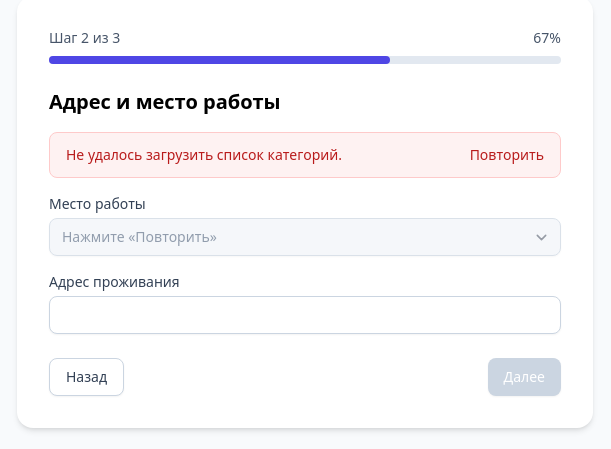
Test: wizard flow › categories error + retry › 500 на GET /category-list → ErrorBanner, Next disabled → retry → Next enabled
Check: the text "Не удалось загрузить список категорий." is shown, box [66, 145, 342, 165]
Check: the dropdown labelled "Место работы" is disabled, box [49, 218, 561, 256]
Клик «Повторить» - refetch успешен
Click the button "Повторить": x=507, y=155 [470, 145, 544, 165]
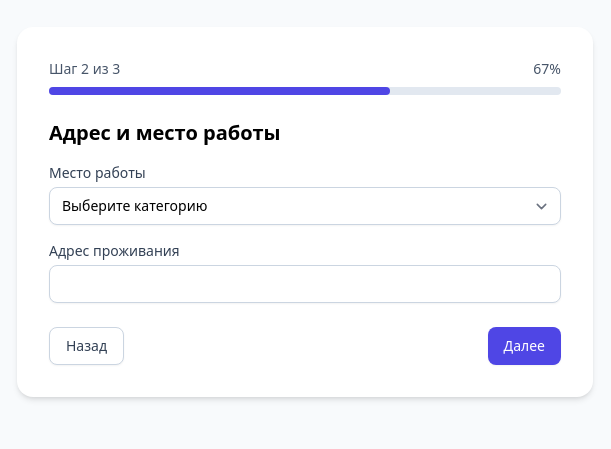
Check: the dropdown labelled "Место работы" is enabled, box [49, 187, 561, 225]
Check: the text "Не удалось загрузить список категорий." is gone
Check: the button "Далее" is enabled, box [488, 327, 561, 365]
